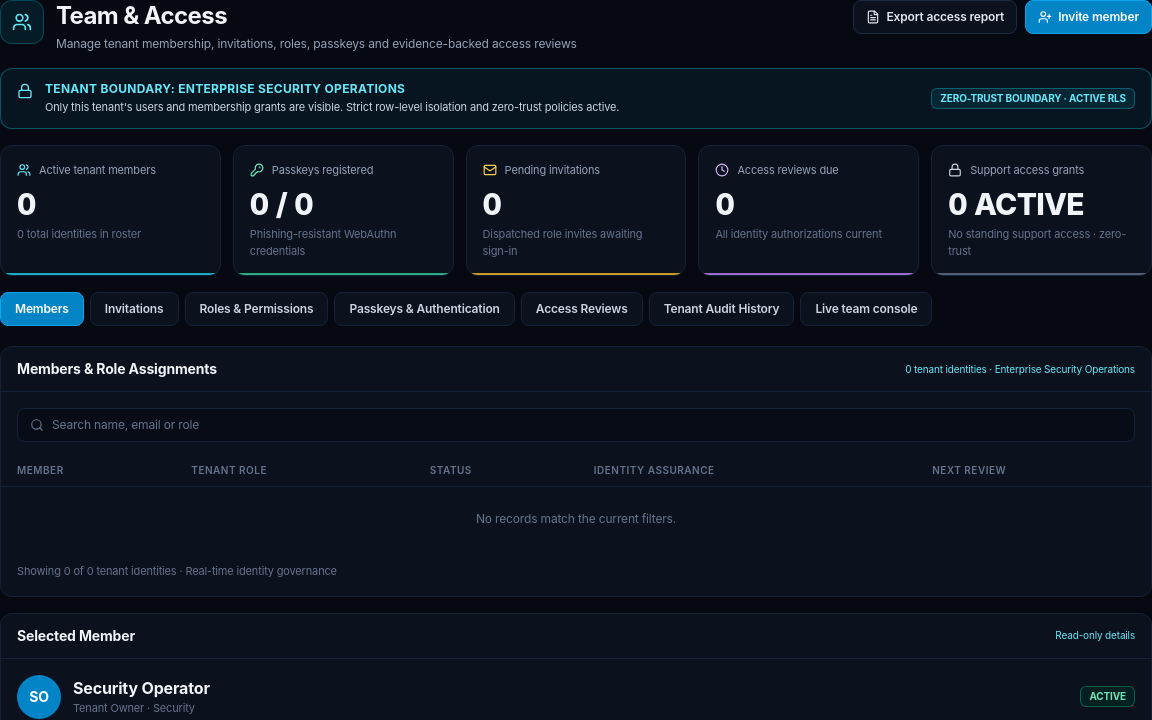
Test: Mockup workspace pages › /team hides the live console until its tab is selected
Click the tab "Live team console": (866, 309) [800,292,932,326]
(page scrolled)
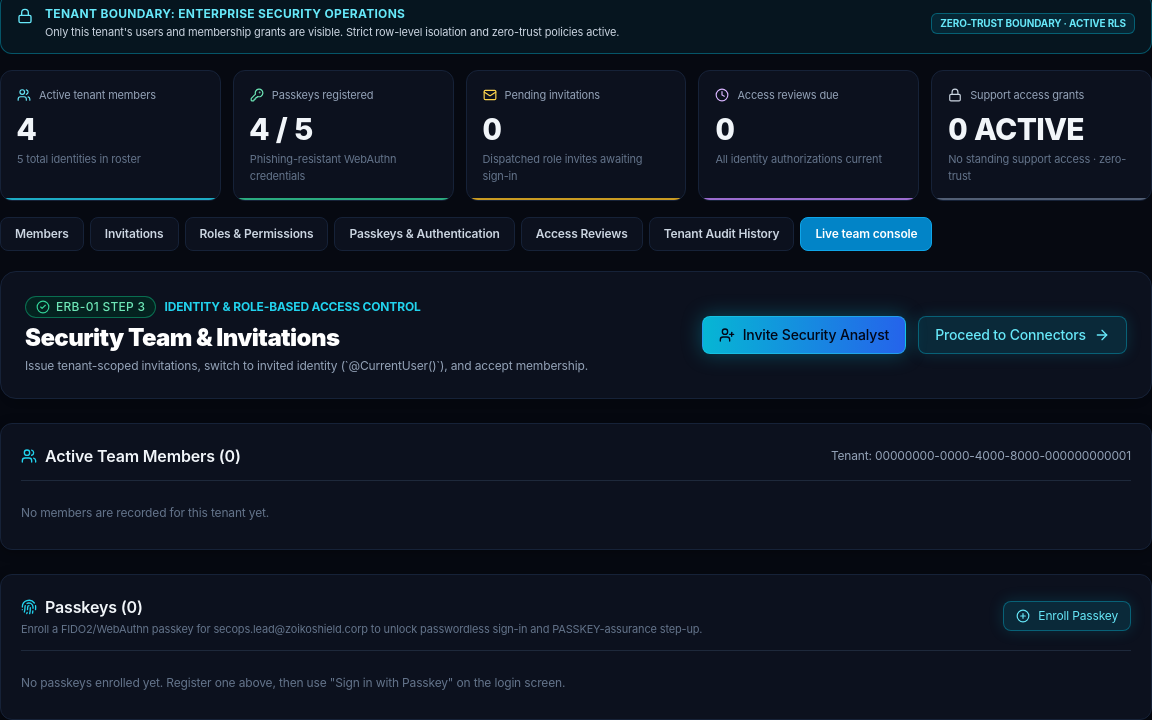
Result: the element with test id "live-console" is shown
